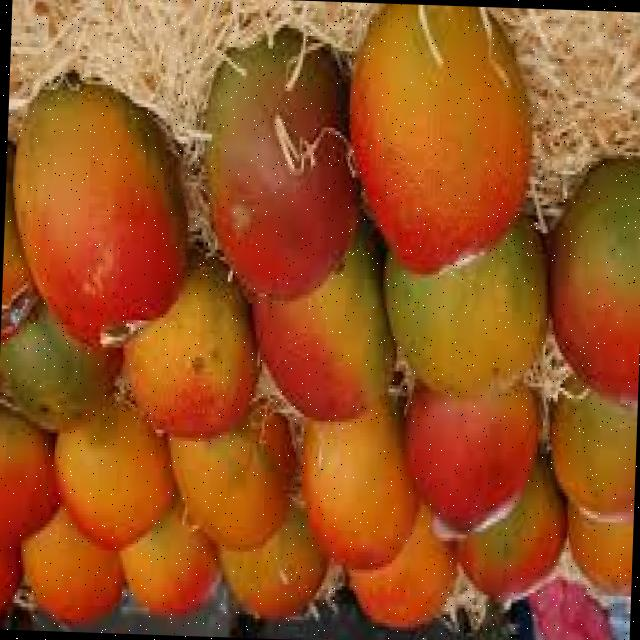mango: (345, 2, 527, 273)
